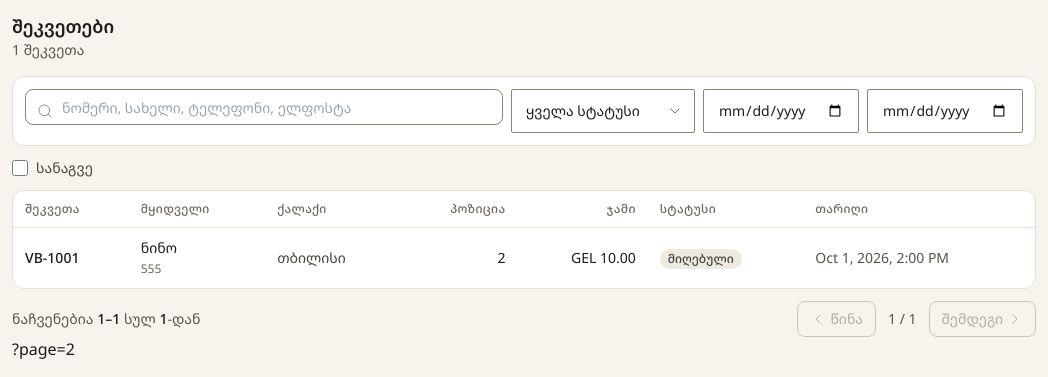
OrderList trash toggle › lists live orders by default and the trash after the toggle
Check: the link "VB-1001" is shown, box x1=25 y1=248 x2=80 y2=267
Click the checkbox labelled "სანაგვე".
click(20, 168)  # box x1=12 y1=160 x2=28 y2=176
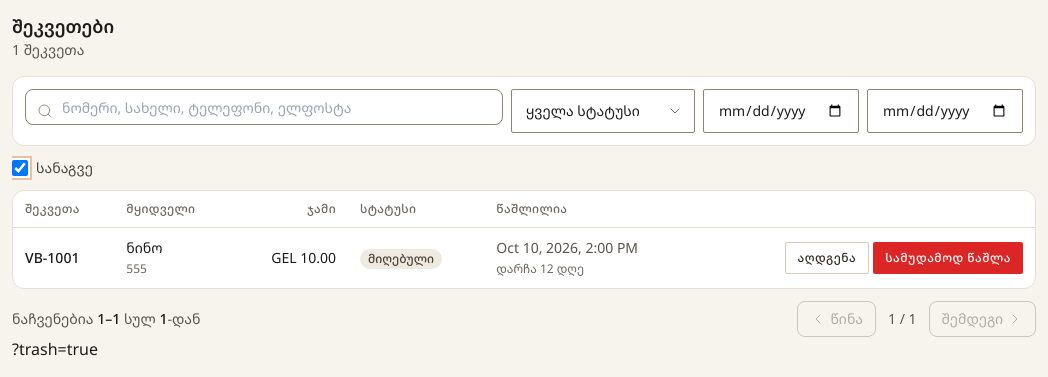
Check: the button "აღდგენა" is shown, box x1=784 y1=242 x2=869 y2=274
Check: the text with test id "where" shows "trash=true", box x1=12 y1=338 x2=98 y2=360
Check: the text with test id "where" no longer shows "page=2", box x1=12 y1=338 x2=98 y2=360
